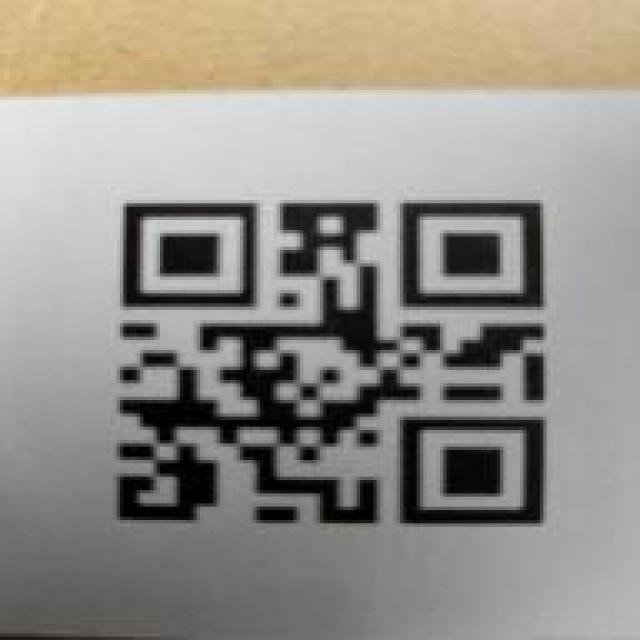QR_CODE: (55, 157, 603, 563)
